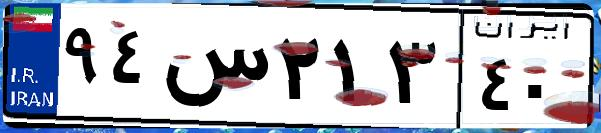0: (525, 38, 570, 115)
1: (330, 28, 385, 110)
2: (270, 28, 330, 110)
3: (385, 28, 445, 110)
4: (475, 38, 525, 113), (110, 28, 158, 98)
9: (57, 26, 110, 100)
س: (158, 20, 270, 120)
